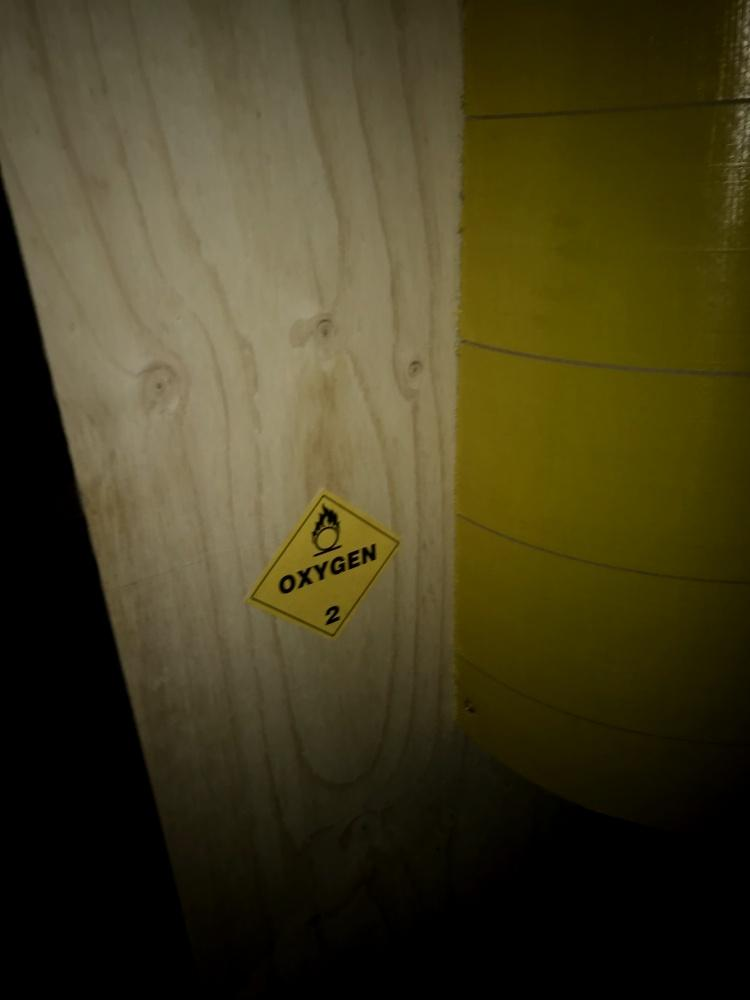oxidizer: (246, 479, 400, 640)
